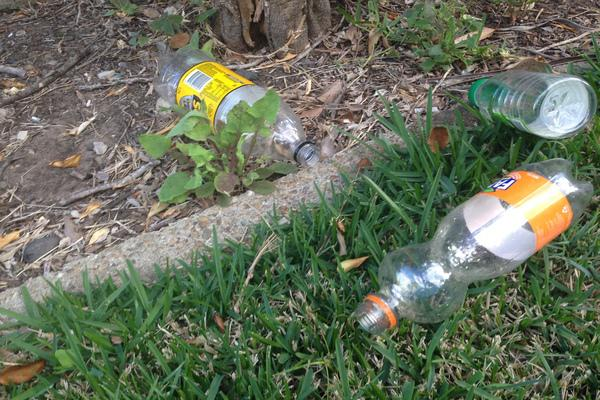Plastic Bottle: (355, 158, 593, 335), (154, 46, 320, 167), (469, 70, 598, 139)
